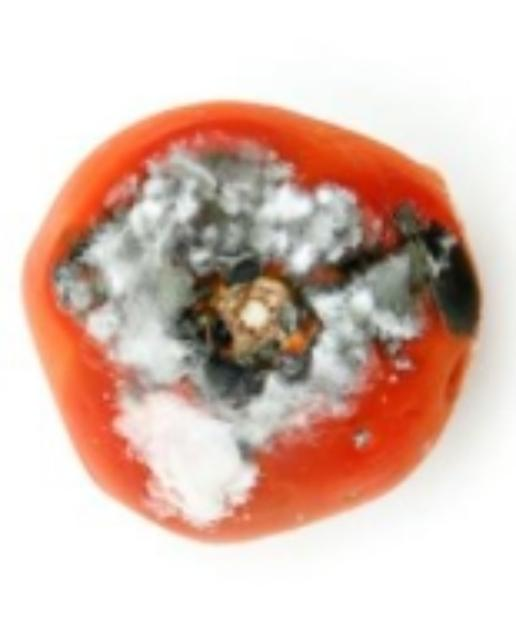defect: (17, 98, 484, 544)
